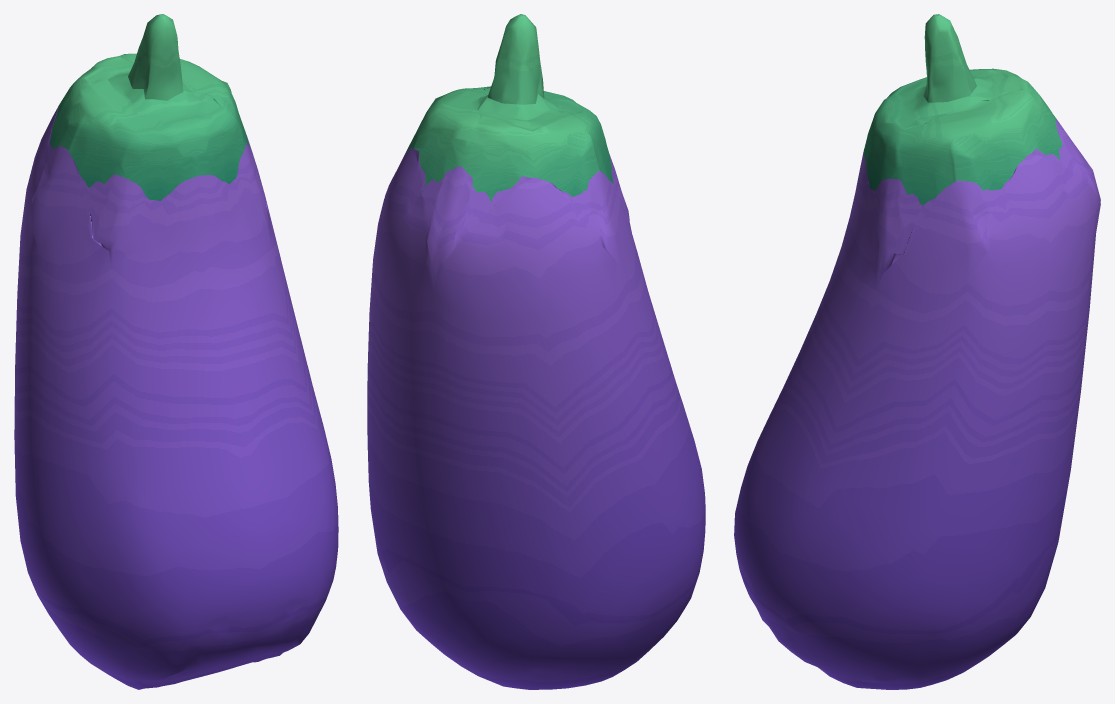
3 renders of one model, left to right at view 1: azimuth 30°, elevation 25°; view 2: azimuth 150°, elevation 25°; view 3: azimuth 270°, elevation 25°, orthographic. The views are drawn at different scales.
Size of the model in its own units: 0.4468 by 0.9805 by 0.4946.
Materials: 1 (1 with a texture image).
